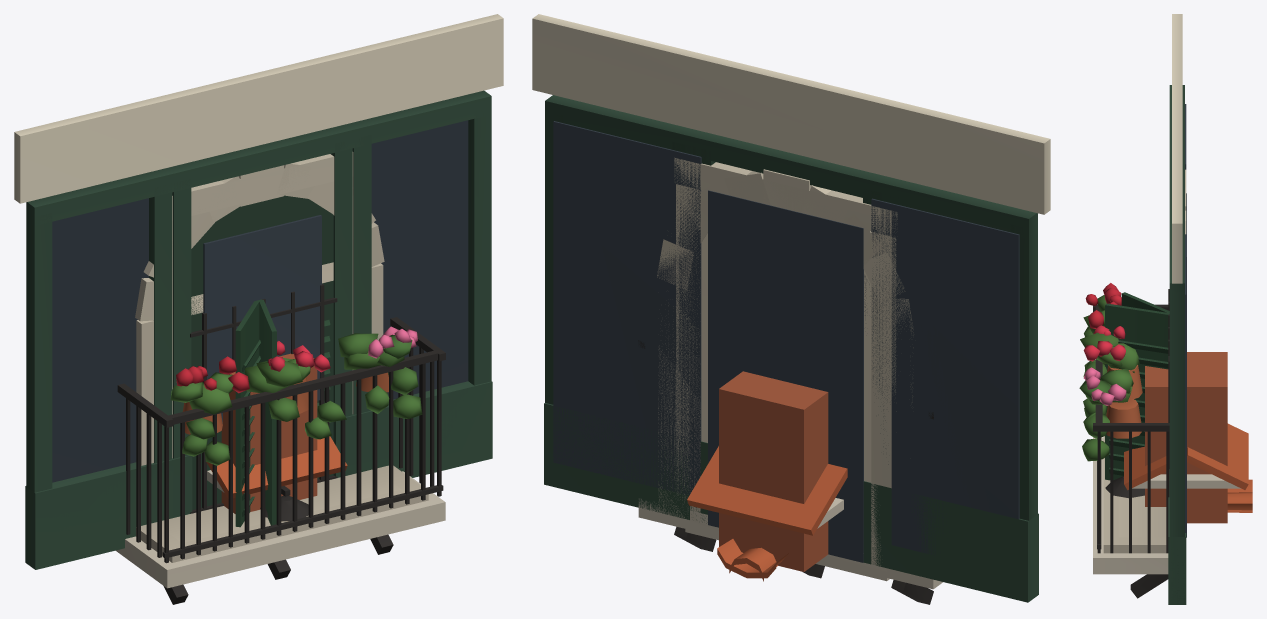
The model's file is langhe_kit.glb.
The picture shows the model from 3 angles, left to right: view 1: azimuth 30°, elevation 25°; view 2: azimuth 150°, elevation 25°; view 3: azimuth 270°, elevation 25°; orthographic projection. The views are drawn at different scales.
Visible parts, largest first — view 1: shopfront, balcony, shopfront_open, door_arched, door_plain, chimney_stack, shutter_135, chimney_cap, grate, shutter_110; view 2: shopfront, shopfront_open, balcony, window, chimney_stack, door_plain, door_arched, chimney_cap, coppo_pan, coppo_cap; view 3: balcony, shopfront, chimney_stack, shutter_110, chimney_cap, door_arched, door_plain, shopfront_open, shutter_135, wall_lamp, coppo_cap, coppo_pan (+1 smaller).
Boxes of the visible parts, x1=… form: shopfront: x1=14, y1=14, x2=503, y2=569; balcony: x1=116, y1=317, x2=445, y2=604; shopfront_open: x1=25, y1=120, x2=492, y2=569; door_arched: x1=135, y1=162, x2=428, y2=562; door_plain: x1=154, y1=152, x2=401, y2=542; chimney_stack: x1=221, y1=353, x2=317, y2=513; shutter_135: x1=235, y1=300, x2=260, y2=527; chimney_cap: x1=206, y1=436, x2=347, y2=498; grate: x1=190, y1=283, x2=337, y2=513; shutter_110: x1=259, y1=299, x2=276, y2=525; shopfront: x1=532, y1=14, x2=1050, y2=602; shopfront_open: x1=544, y1=121, x2=1038, y2=602; balcony: x1=638, y1=190, x2=942, y2=604; window: x1=685, y1=295, x2=889, y2=581; chimney_stack: x1=719, y1=371, x2=828, y2=571; door_plain: x1=674, y1=157, x2=897, y2=565; door_arched: x1=657, y1=169, x2=913, y2=517; chimney_cap: x1=687, y1=446, x2=847, y2=535; coppo_pan: x1=717, y1=539, x2=788, y2=578; coppo_cap: x1=729, y1=547, x2=777, y2=581; balcony: x1=1079, y1=193, x2=1186, y2=598; shopfront: x1=1168, y1=14, x2=1186, y2=604; chimney_stack: x1=1145, y1=352, x2=1227, y2=523; shutter_110: x1=1105, y1=303, x2=1169, y2=480; chimney_cap: x1=1124, y1=423, x2=1248, y2=490; door_arched: x1=1103, y1=187, x2=1186, y2=553; door_plain: x1=1118, y1=169, x2=1186, y2=537; shopfront_open: x1=1168, y1=104, x2=1186, y2=604; shutter_135: x1=1121, y1=292, x2=1169, y2=313; wall_lamp: x1=1105, y1=476, x2=1144, y2=498; coppo_cap: x1=1227, y1=492, x2=1252, y2=512; coppo_pan: x1=1227, y1=479, x2=1252, y2=510.
Size of the model in its own units: 3.3 by 3.18 by 1.15.
